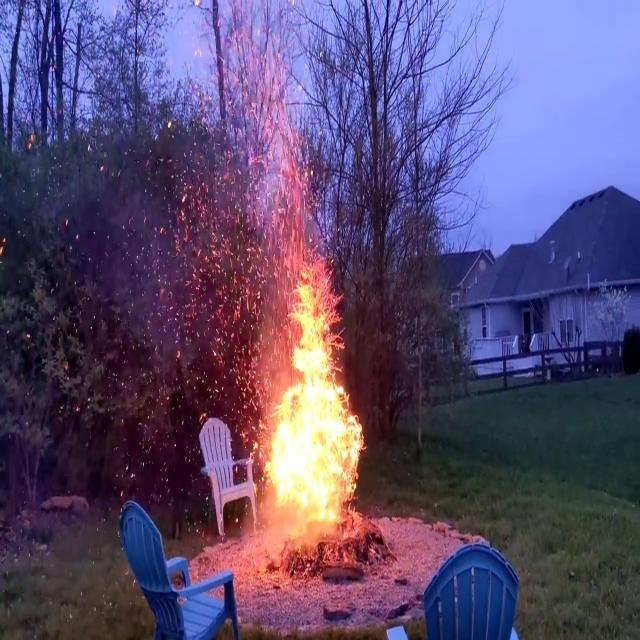Fire: (258, 255, 370, 524)
